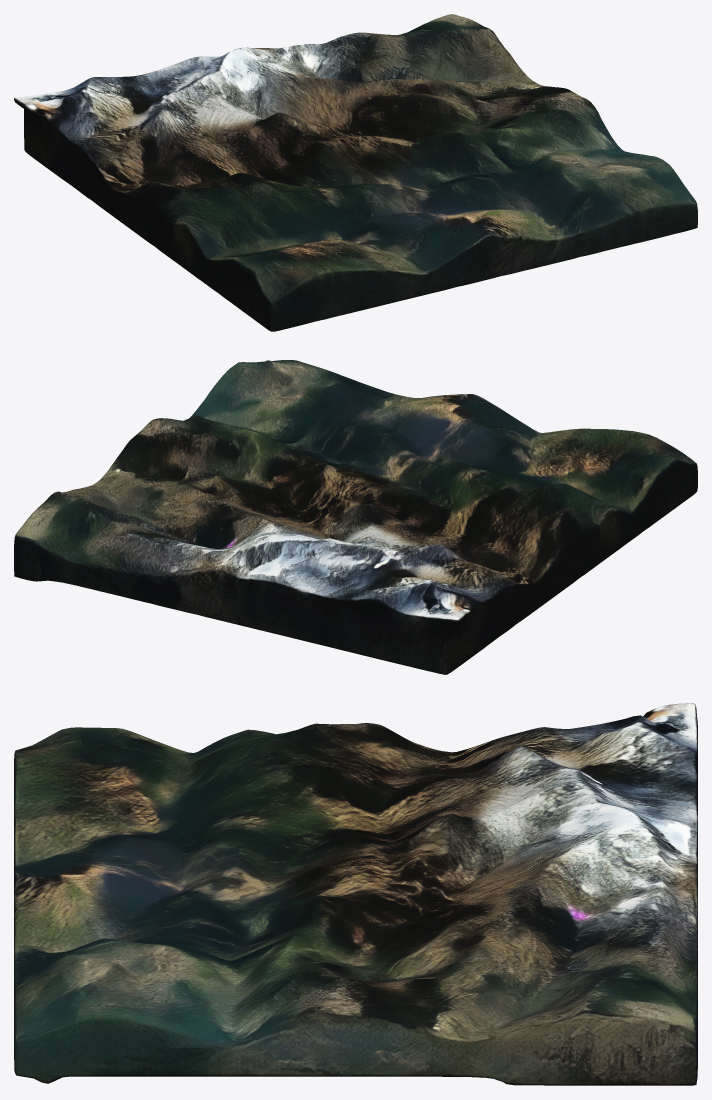
File: model_shaded.glb
The picture shows the model from 3 angles, top to bottom: view 1: azimuth 30°, elevation 25°; view 2: azimuth 150°, elevation 25°; view 3: azimuth 270°, elevation 25°; orthographic projection. The views are drawn at different scales.
Visible parts, largest first — view 1: Mesh; view 2: Mesh; view 3: Mesh.
Boxes of the visible parts, x1,y1,x2,y2 form: Mesh: [14, 14, 697, 331]; Mesh: [14, 360, 697, 674]; Mesh: [14, 703, 697, 1085].
Size of the model in its own units: 1.89 by 0.3271 by 1.85.
Materials: 1 (1 with a texture image).
